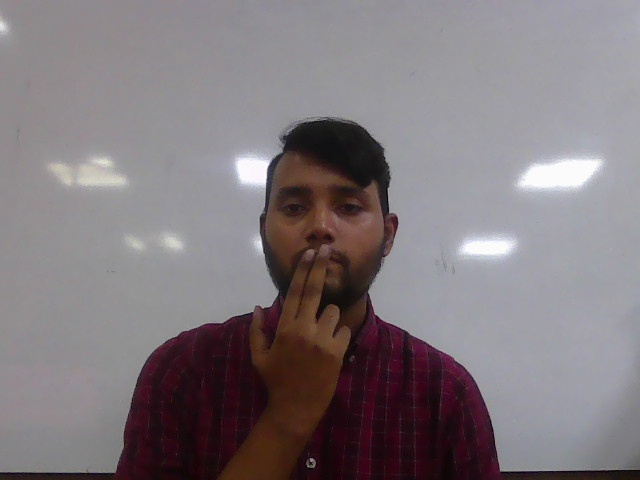Bak: (247, 242, 351, 431)
